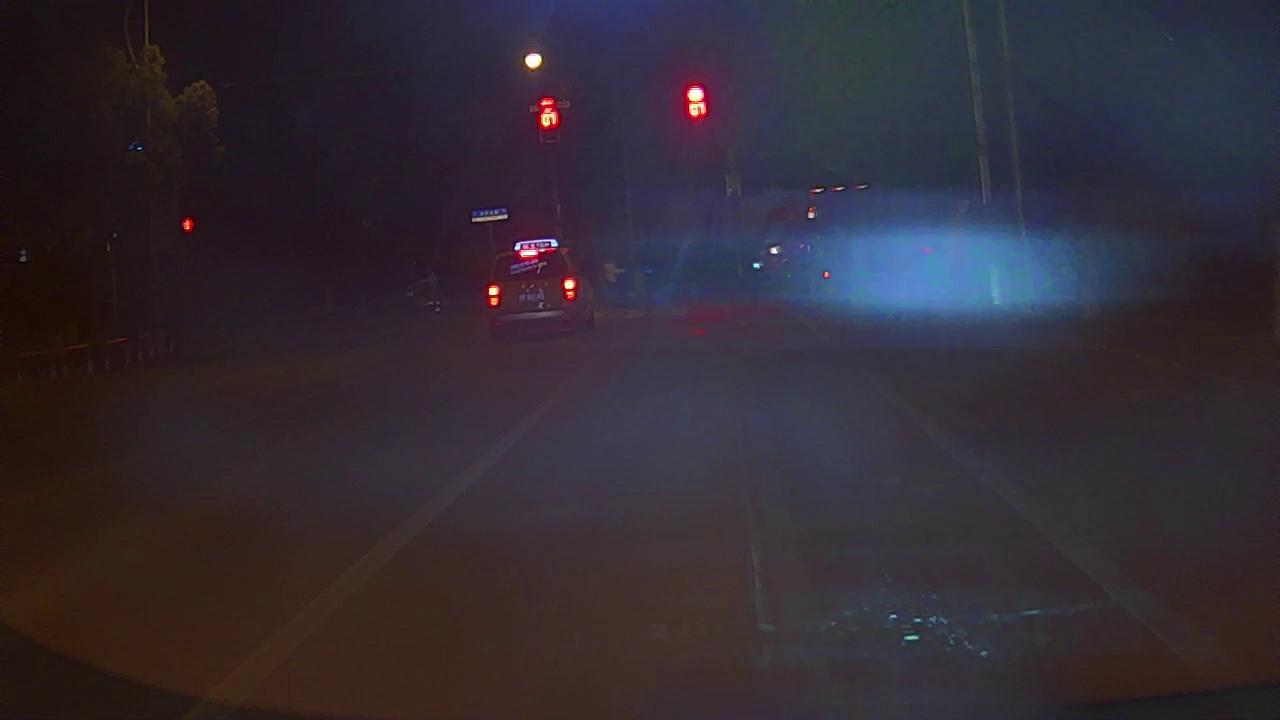traffic_light: (681, 77, 709, 123), (536, 93, 563, 138)
